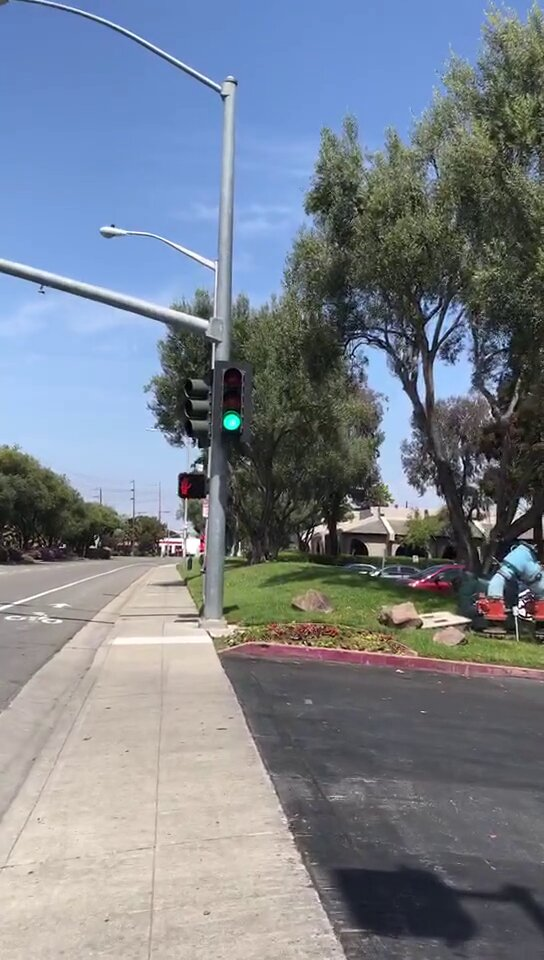green_light: (213, 365, 250, 437)
